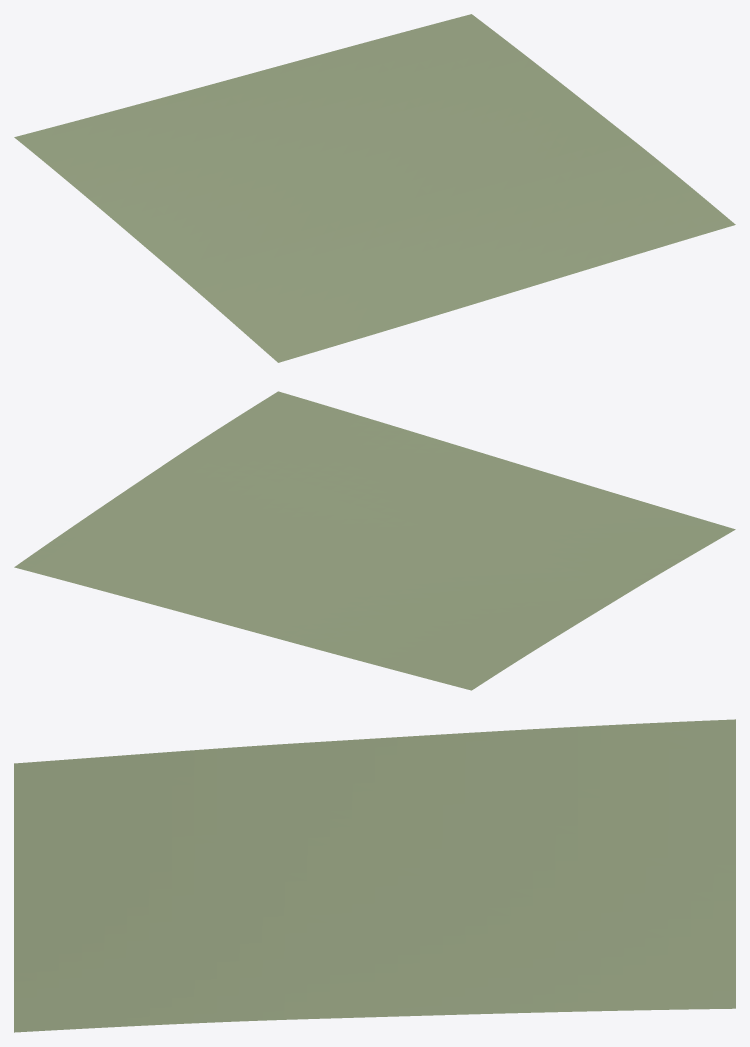
The model's file is desert-25-8.glb.
3 renders of one model, top to bottom at view 1: azimuth 30°, elevation 25°; view 2: azimuth 150°, elevation 25°; view 3: azimuth 270°, elevation 25°, orthographic. The views are drawn at different scales.
Visible parts, largest first — view 1: desert-25-8; view 2: desert-25-8; view 3: desert-25-8.
Part boxes in pixels (x1,y1,x2,y2): desert-25-8: (14,14,735,362); desert-25-8: (14,391,735,690); desert-25-8: (14,719,735,1032).
Size of the model in its own units: 512 by 46.82 by 512.
